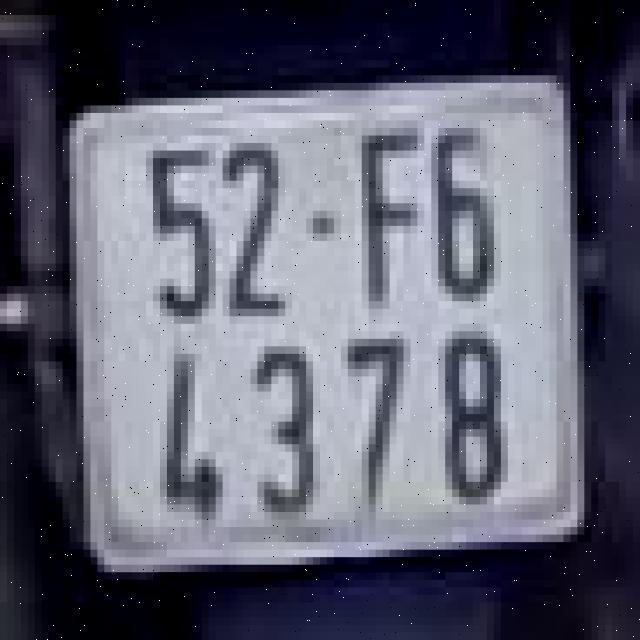2: (216, 132, 299, 320)
3: (237, 331, 320, 527)
4: (146, 335, 230, 531)
5: (139, 136, 230, 324)
6: (424, 116, 508, 312)
7: (341, 320, 417, 523)
8: (431, 316, 522, 504)
F: (348, 120, 431, 316)
